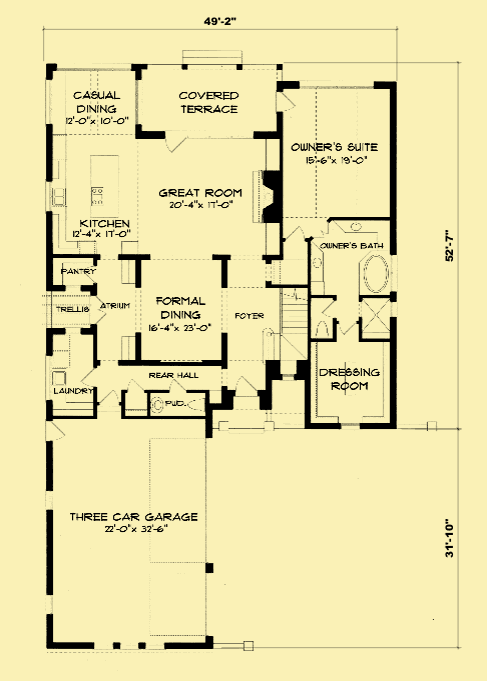kitchen has twin sink with counter: (46, 136, 138, 258)
laundry room has a washer and dryer: (44, 326, 97, 415)
open area has stairs: (220, 284, 312, 382)
small bathroom has a large sink with small sink: (147, 386, 210, 420)
this bathroom has a bathtub with dual sinks with large sink: (307, 217, 398, 345)
